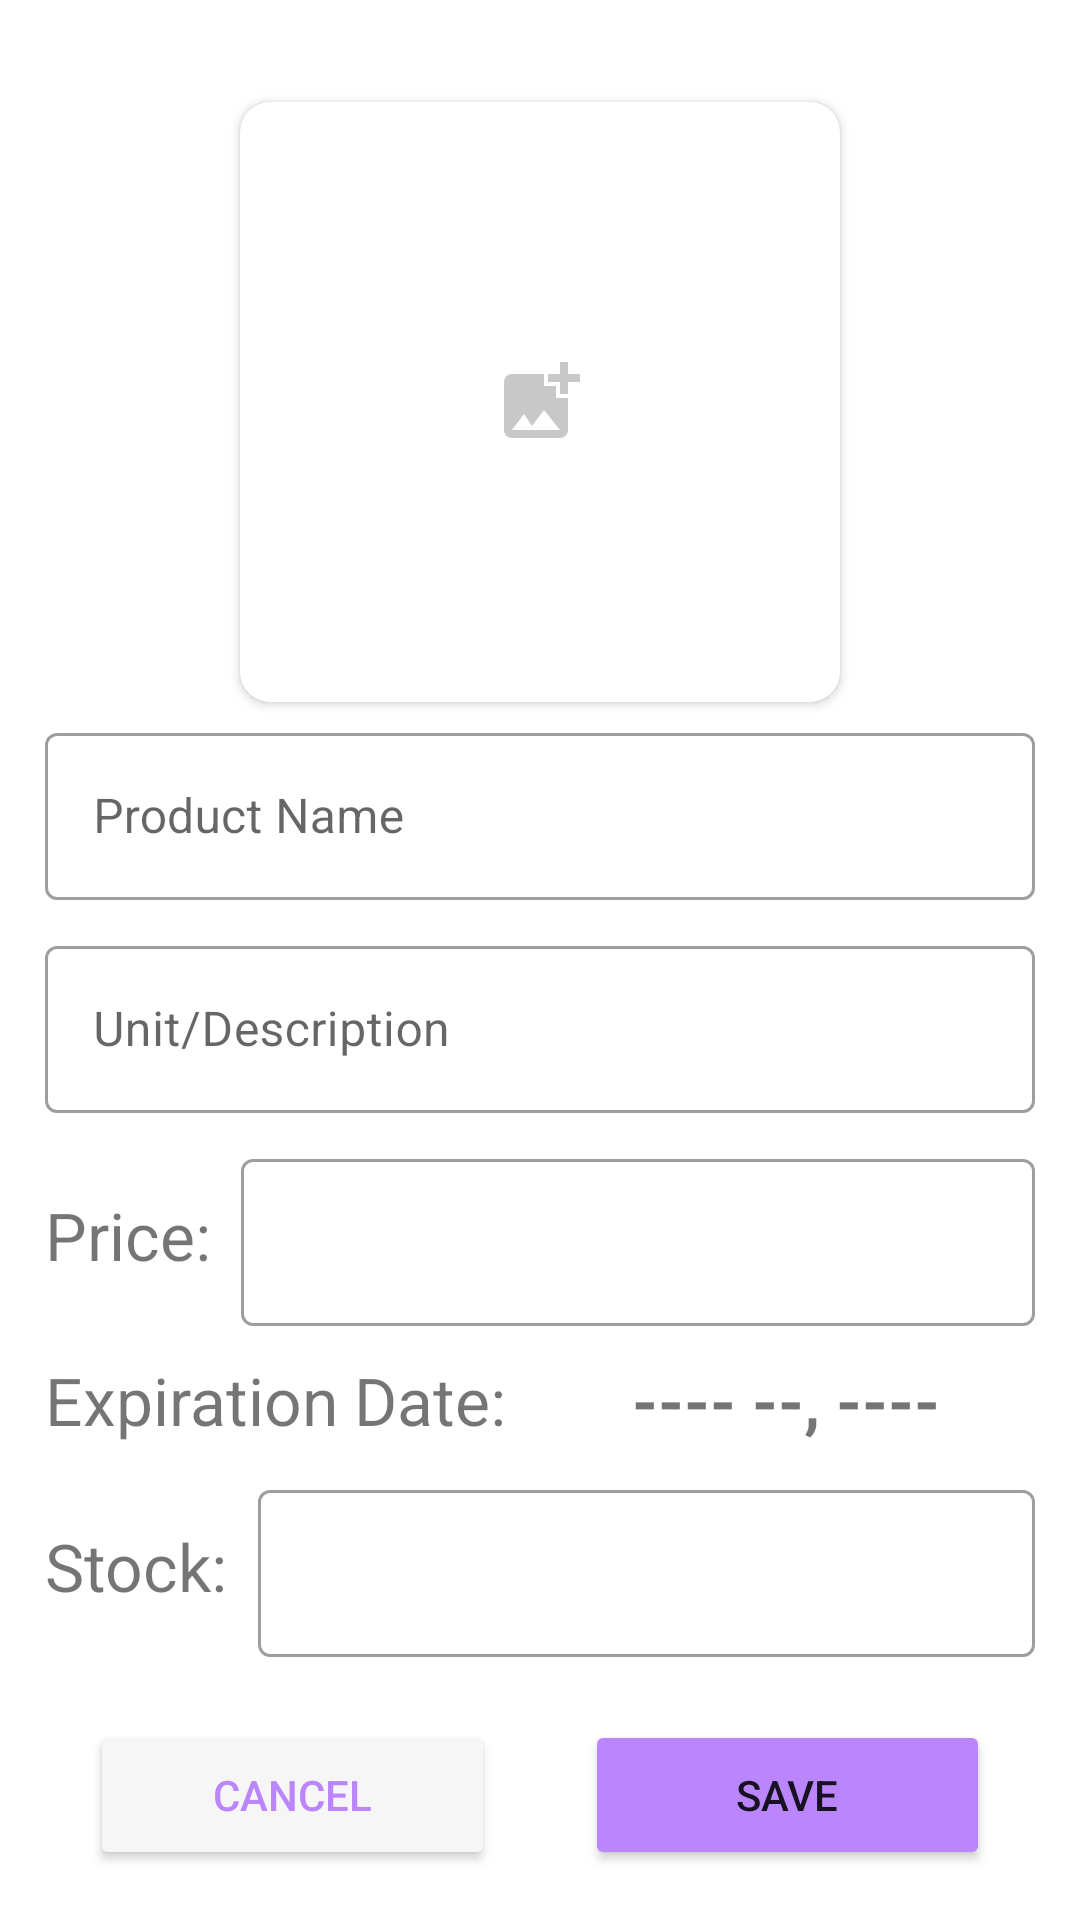

Icons on this 1080*1920 Android screen, each with its box as [left=x1, top=y1, right=x2, bottom=y2]:
add photo alternate: [left=504, top=362, right=580, bottom=438]
